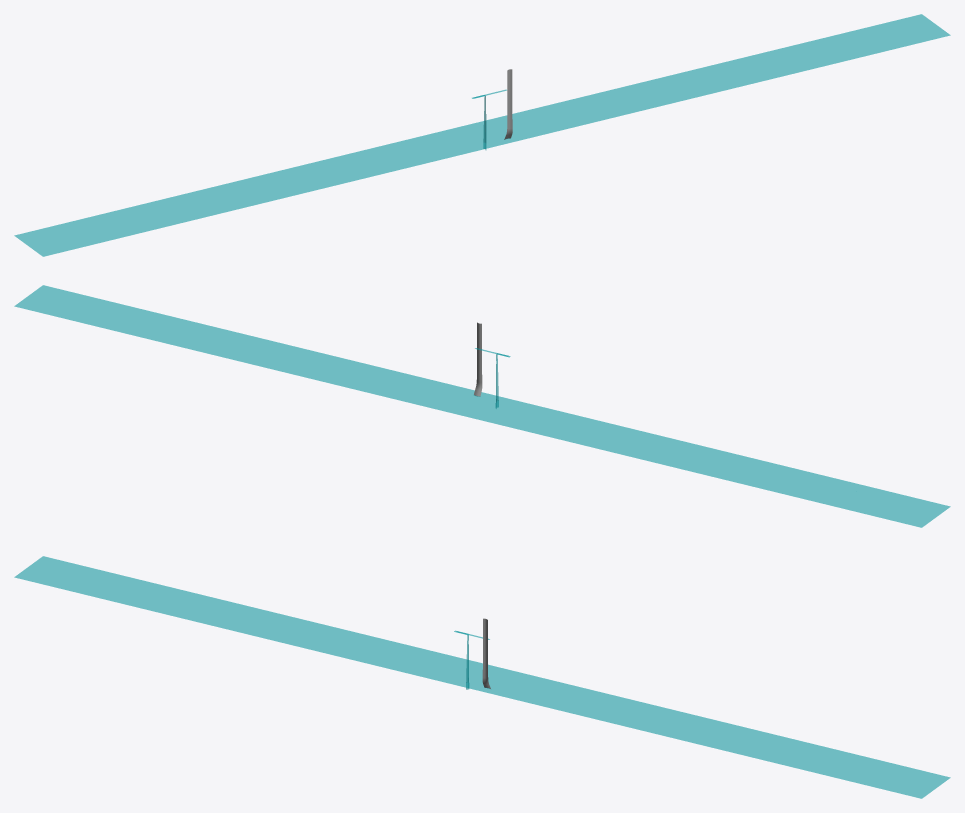
File: WaterWork_Water_Unity.fbx
3 views of the same model, one above another, from view 1: azimuth 30°, elevation 25°; view 2: azimuth 150°, elevation 25°; view 3: azimuth 330°, elevation 25° (orthographic).
Visible parts, largest first — view 1: WaterPlane; view 2: WaterPlane; view 3: WaterPlane.
Part boxes in pixels (x1,y1,x2,y2): WaterPlane: (14, 14, 950, 256); WaterPlane: (14, 285, 950, 527); WaterPlane: (14, 556, 950, 798).
Size of the model in its own units: 32957 by 2685 by 1832.
